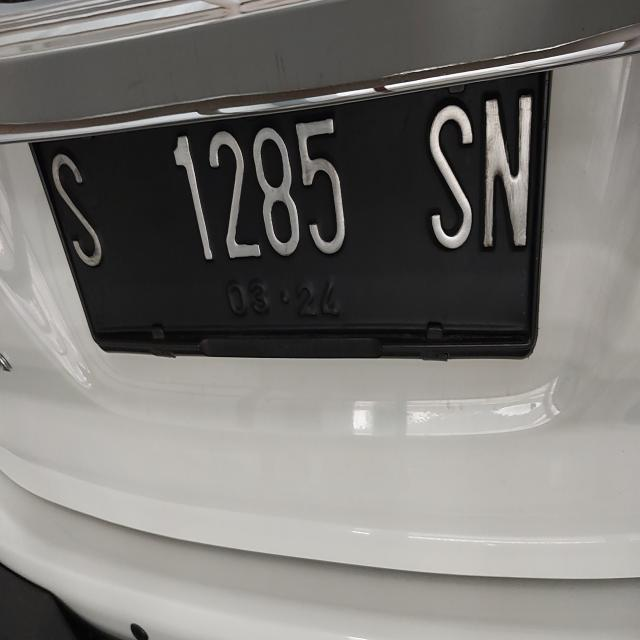1: (164, 126, 219, 296)
2: (204, 118, 266, 286)
5: (293, 108, 367, 266)
8: (250, 113, 309, 258)
N: (480, 77, 536, 270)
S: (418, 84, 475, 270), (47, 147, 105, 272)
